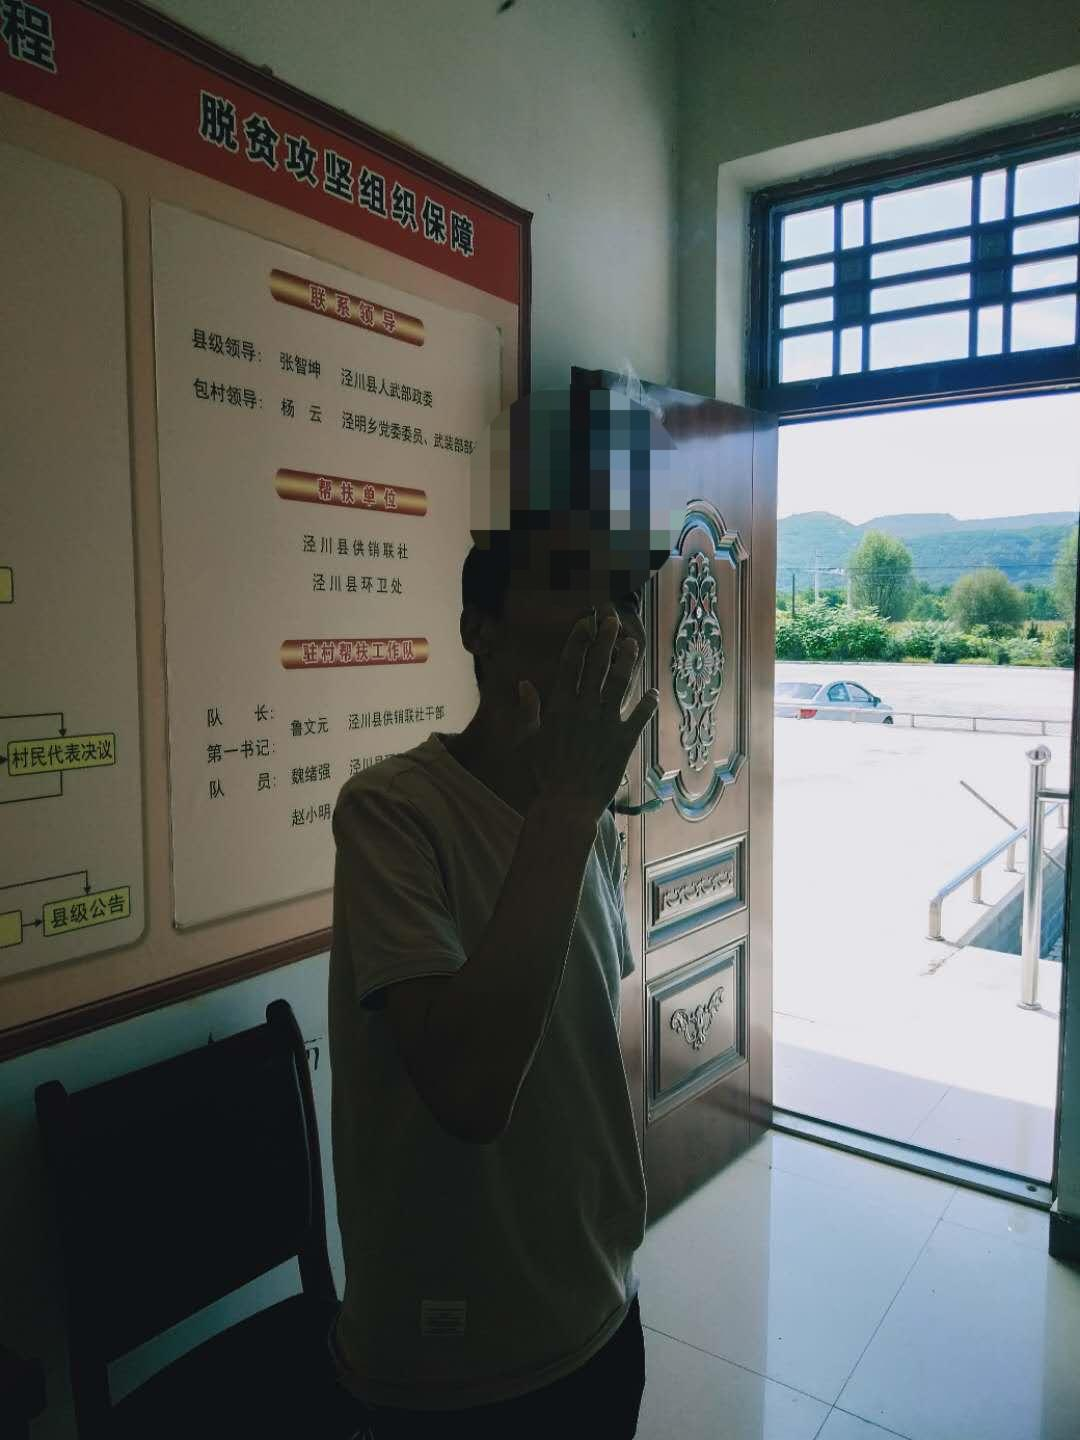smoke: (582, 600, 601, 649)
